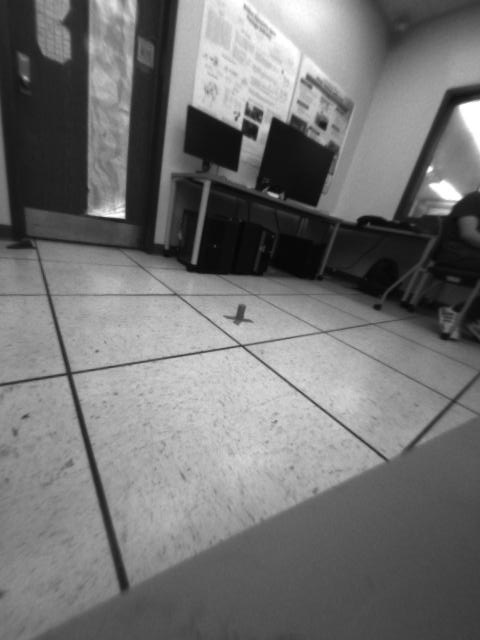X: (223, 304, 255, 327)
